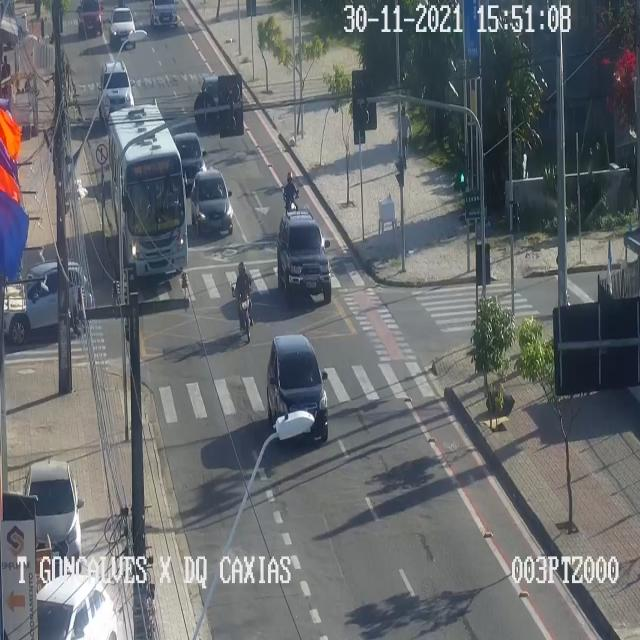Bus: (108, 105, 188, 275)
Car: (3, 260, 92, 344), (266, 333, 328, 439), (24, 461, 80, 571), (36, 574, 116, 639), (277, 211, 331, 301), (190, 170, 232, 233), (98, 62, 134, 118), (172, 132, 206, 186), (72, 0, 106, 43), (200, 77, 230, 119), (147, 0, 182, 33), (109, 7, 135, 46)
Motorcycle: (233, 262, 253, 341), (283, 172, 299, 214)
